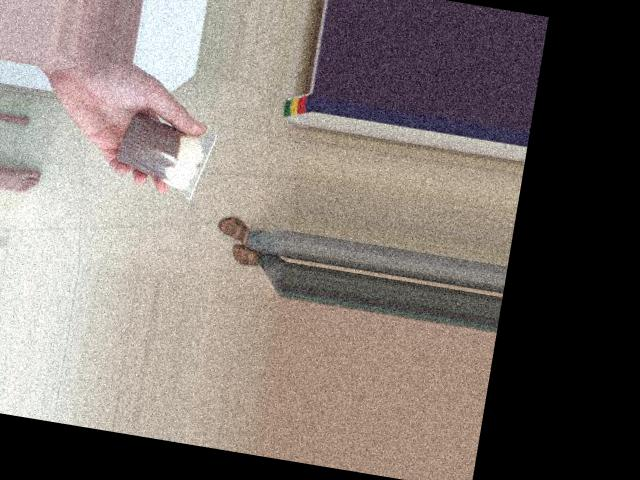milky: (98, 101, 222, 192)
